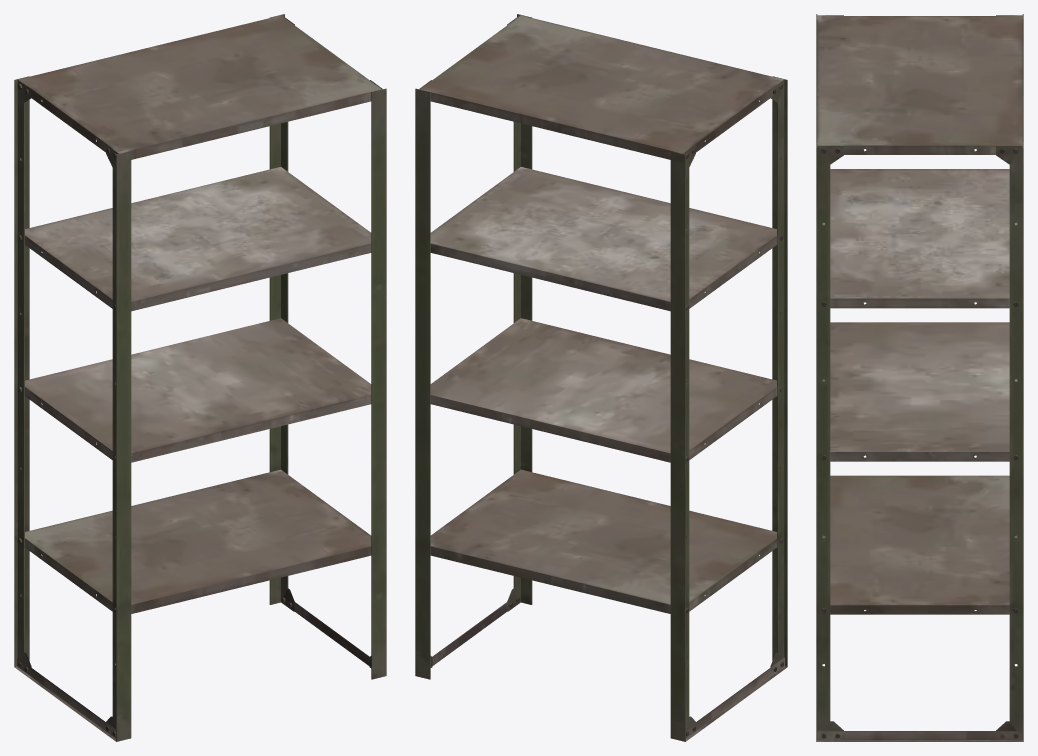
The model's file is worn_metal_rack.glb.
3 renders of one model, left to right at view 1: azimuth 30°, elevation 25°; view 2: azimuth 150°, elevation 25°; view 3: azimuth 270°, elevation 25°, orthographic.
Parts seen in each view (by area): view 1: worn_metal_rack; view 2: worn_metal_rack; view 3: worn_metal_rack.
Boxes of the visible parts, bbox=[...] form: worn_metal_rack: bbox=[14, 14, 386, 741]; worn_metal_rack: bbox=[415, 14, 787, 741]; worn_metal_rack: bbox=[816, 14, 1023, 741].
Bounding box in the file's own units: 0.9154 × 1.9 × 0.6.
1 material, 1 textured.
